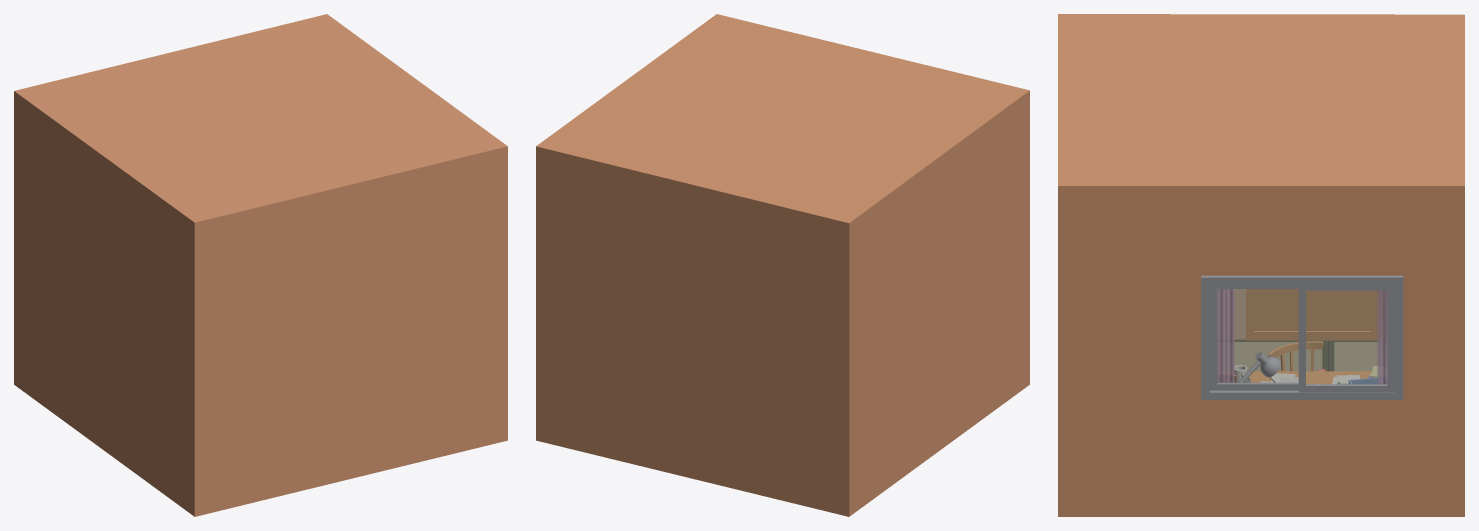
Rendered from Room.fbx.
The picture shows the model from 3 angles, left to right: view 1: azimuth 30°, elevation 25°; view 2: azimuth 150°, elevation 25°; view 3: azimuth 270°, elevation 25°; orthographic projection. The views are drawn at different scales.
Parts seen in each view (by area): view 1: Wall_02; view 2: Wall_02; view 3: Wall_02, Glass, Window, Door, Floor, Table, Chair, Wall_01.
Boxes of the visible parts, x1,y1,x2,y2 form: Wall_02: (14,14,507,516); Wall_02: (536,14,1029,516); Wall_02: (1058,14,1464,516); Glass: (1217,289,1386,384); Window: (1201,275,1403,399); Door: (1246,289,1377,340); Floor: (1234,339,1377,371); Table: (1234,352,1377,384); Chair: (1268,341,1323,371); Wall_01: (1234,289,1245,339).
Bounding box in the file's own units: 277 × 246 × 274.
